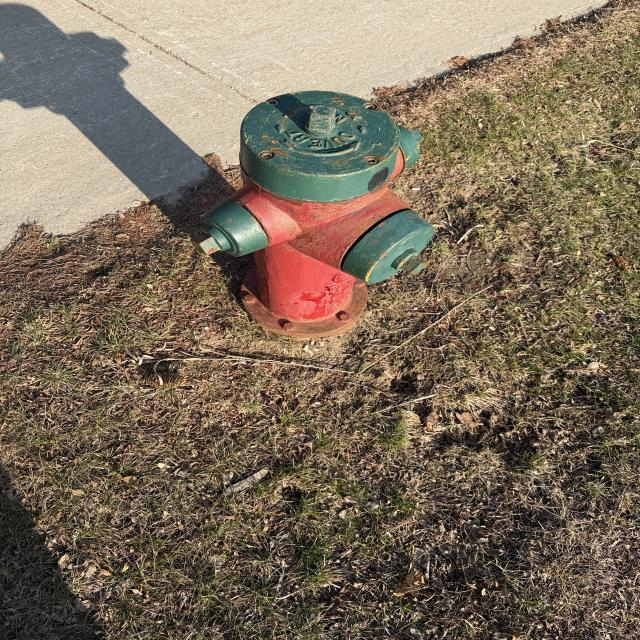Fire hydrant: (190, 90, 434, 338)
